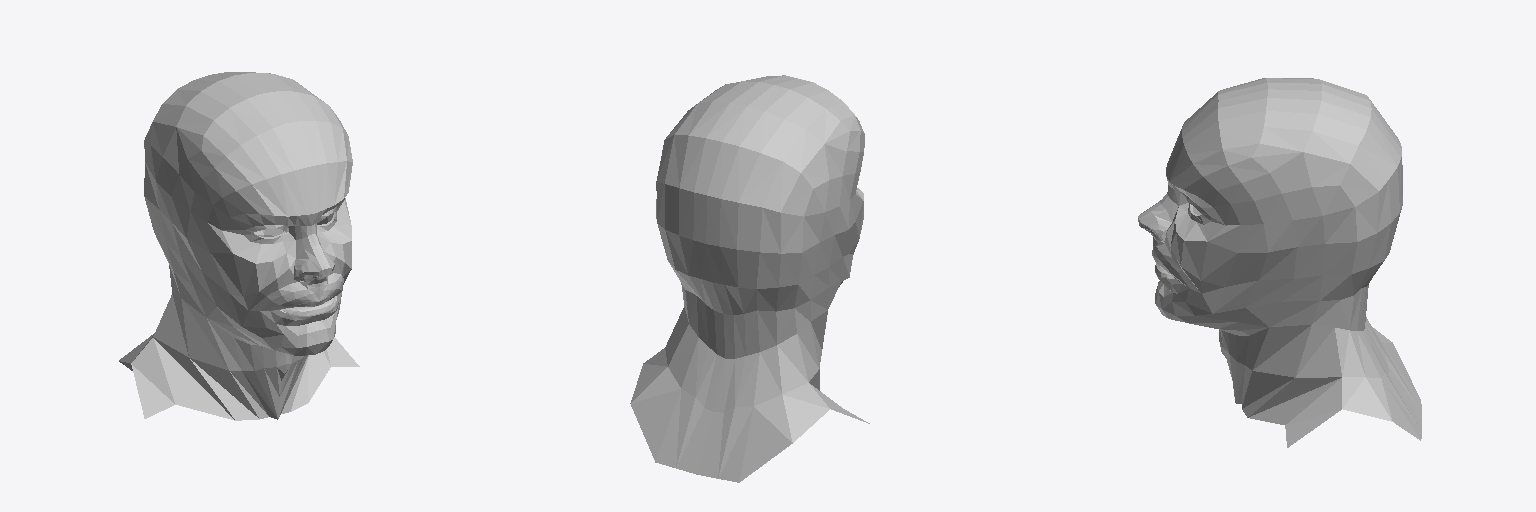
The model's file is week_13_Head_01.obj.
3 renders of one model, left to right at view 1: azimuth 30°, elevation 25°; view 2: azimuth 150°, elevation 25°; view 3: azimuth 270°, elevation 25°, orthographic.
Visible parts, largest first — view 1: polySurface25; view 2: polySurface25; view 3: polySurface25.
Part boxes in pixels (bbox=[...]): polySurface25: bbox=[119, 72, 359, 420]; polySurface25: bbox=[630, 75, 869, 482]; polySurface25: bbox=[1138, 78, 1421, 447].
Bounding box in the file's own units: 72.37 × 107 × 82.77.